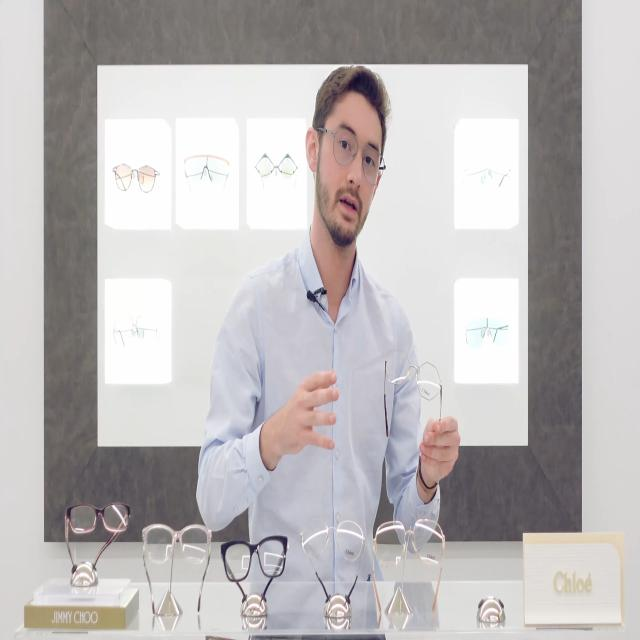dress: (196, 225, 440, 579)
glasses: (302, 514, 365, 566), (375, 520, 446, 566), (383, 348, 442, 403), (144, 520, 212, 567), (222, 534, 286, 580), (332, 124, 382, 182), (64, 498, 129, 539), (183, 151, 230, 190), (113, 160, 156, 196)
